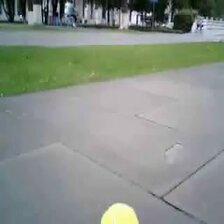tennis: (100, 203, 139, 224)
